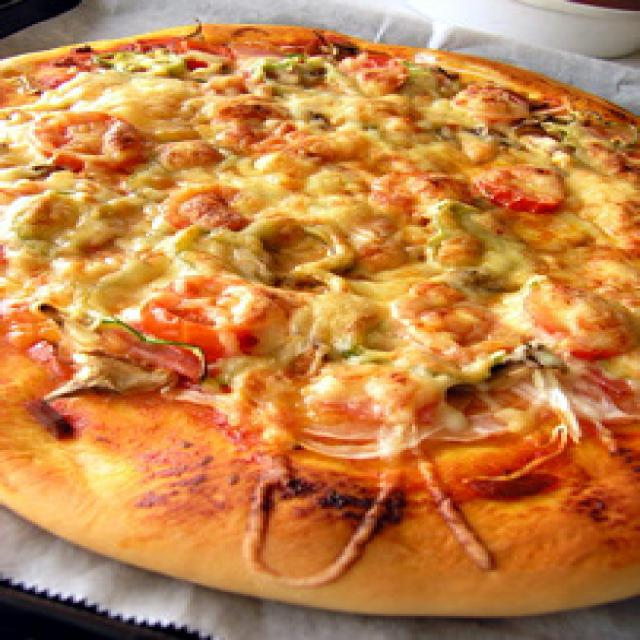汉堡快餐: (0, 26, 640, 616)
